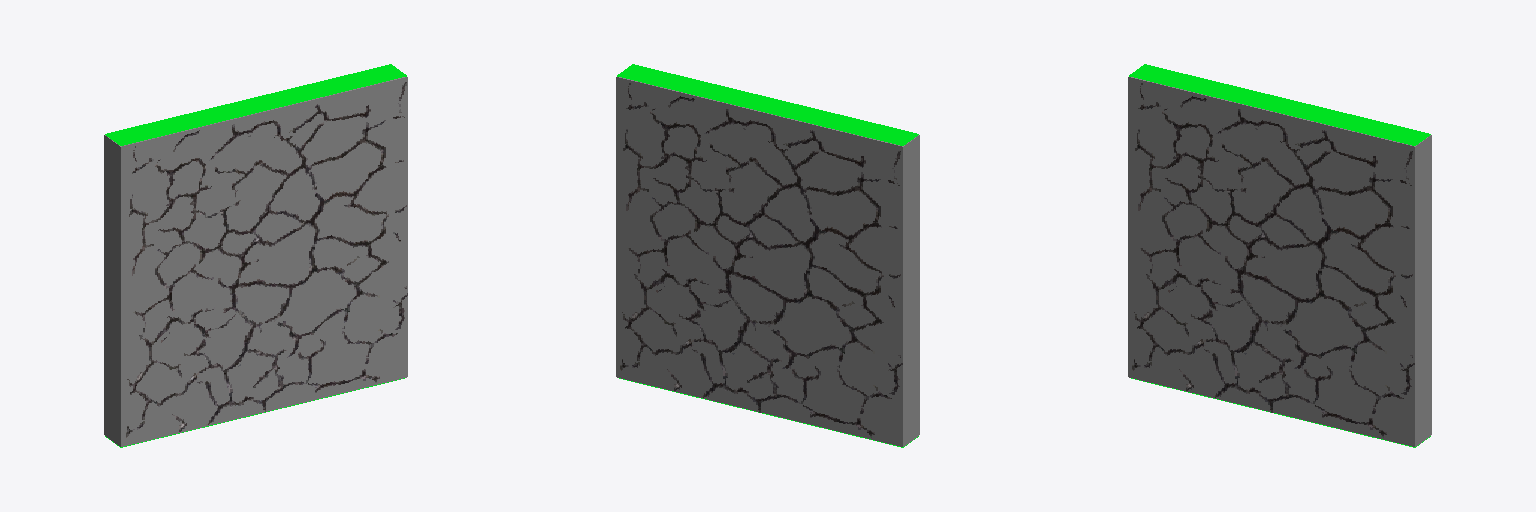
3 renders of one model, left to right at view 1: azimuth 30°, elevation 25°; view 2: azimuth 150°, elevation 25°; view 3: azimuth 330°, elevation 25°, orthographic.
Visible parts, largest first — view 1: Sail1, Sail3, Sail4; view 2: Sail1, Sail2, Sail4; view 3: Sail1, Sail3, Sail4.
Boxes of the visible parts, x1,y1,x2,y2 form: Sail1: [104, 77, 407, 446]; Sail3: [126, 82, 407, 437]; Sail4: [105, 64, 406, 145]; Sail1: [616, 77, 919, 446]; Sail2: [620, 83, 902, 437]; Sail4: [617, 64, 918, 145]; Sail1: [1128, 77, 1431, 446]; Sail3: [1132, 83, 1414, 437]; Sail4: [1129, 64, 1430, 145].
Bounding box in the file's own units: 10 × 10.04 × 1.04.
3 materials, 1 textured.